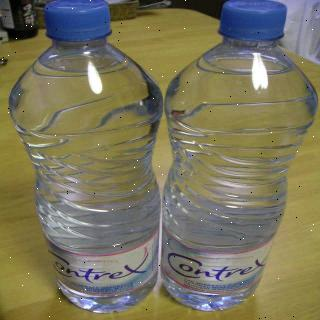Plastic-bottle: (6, 1, 168, 320), (161, 1, 320, 317)
